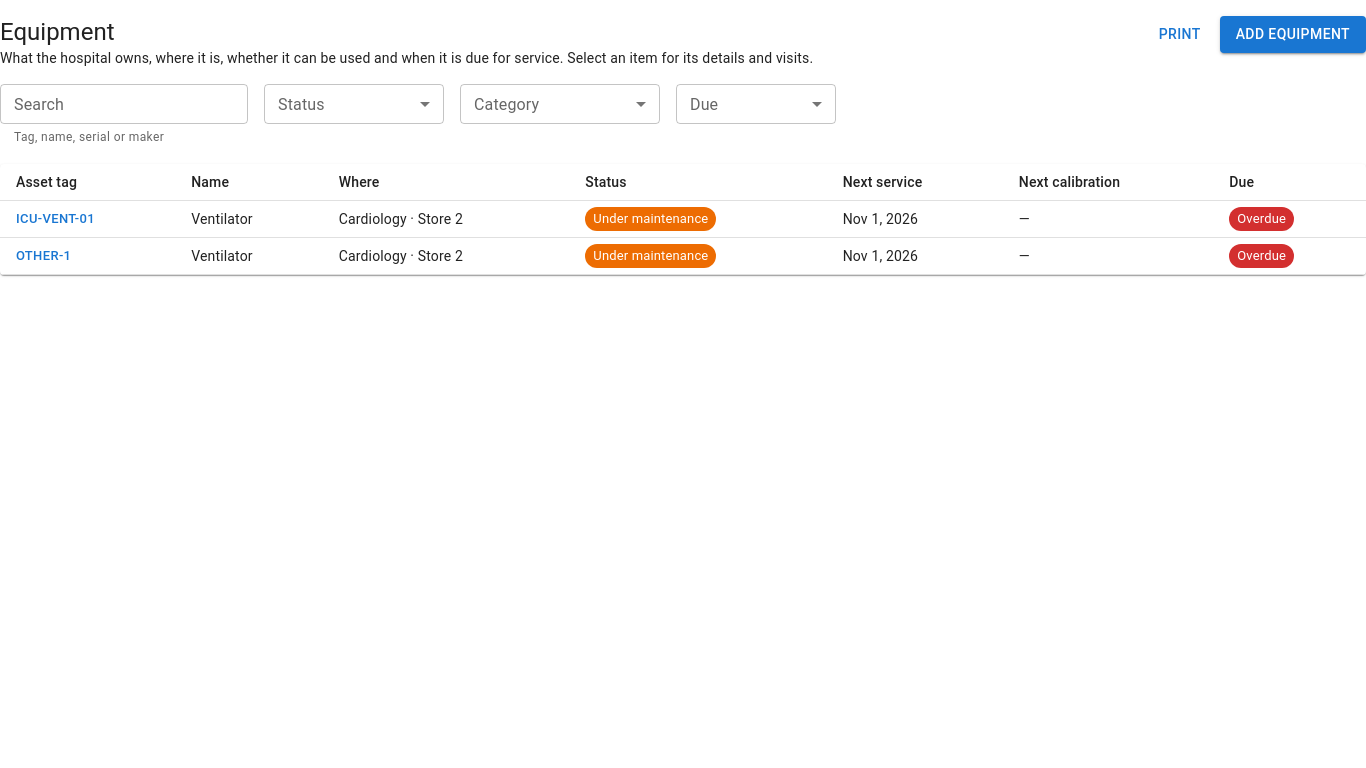
Equipment register (HIMS-FAC-009) › a department grant changes only that department's equipment
Step 1. Click the button "OTHER-1" → (44,256), box [16, 245, 71, 267]
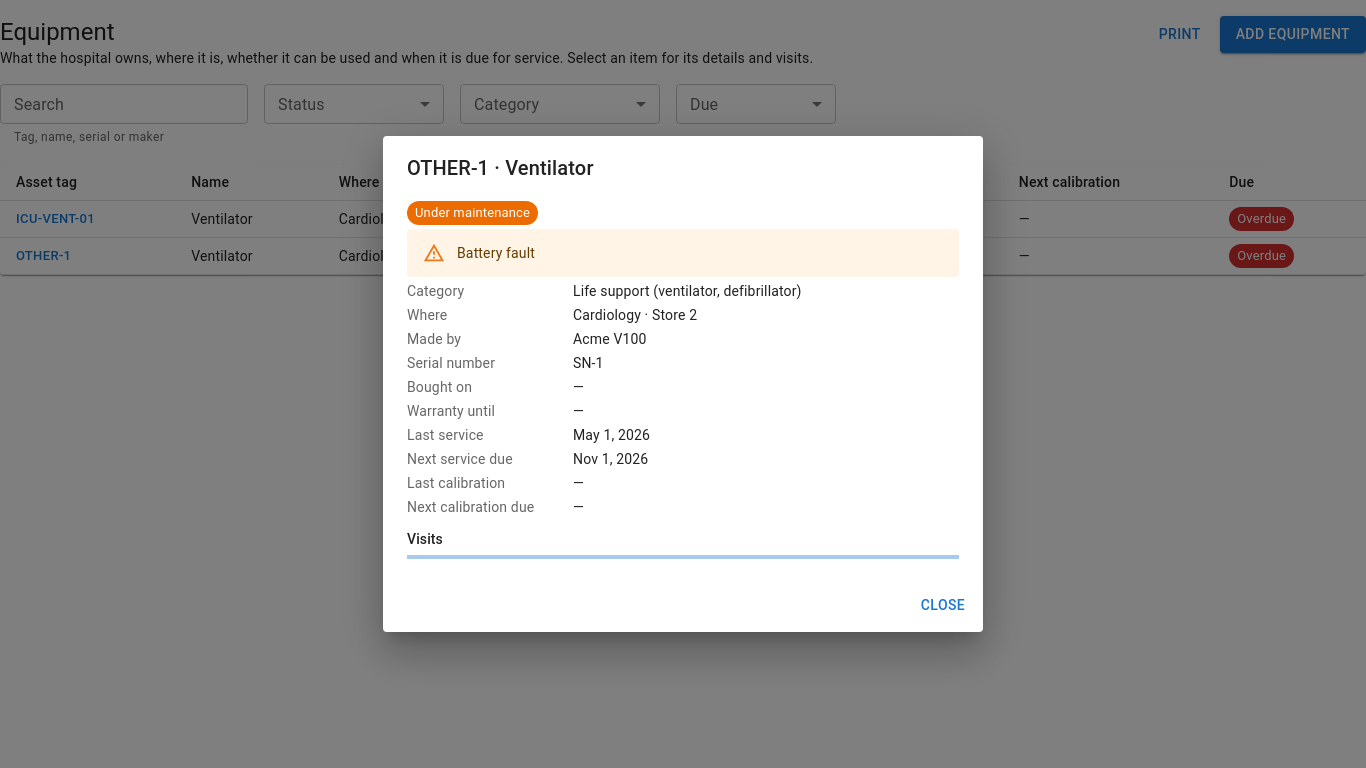
Check: the button "Edit" is not shown
Step 2. Click the button "Close" → (943,605), box [911, 587, 975, 624]
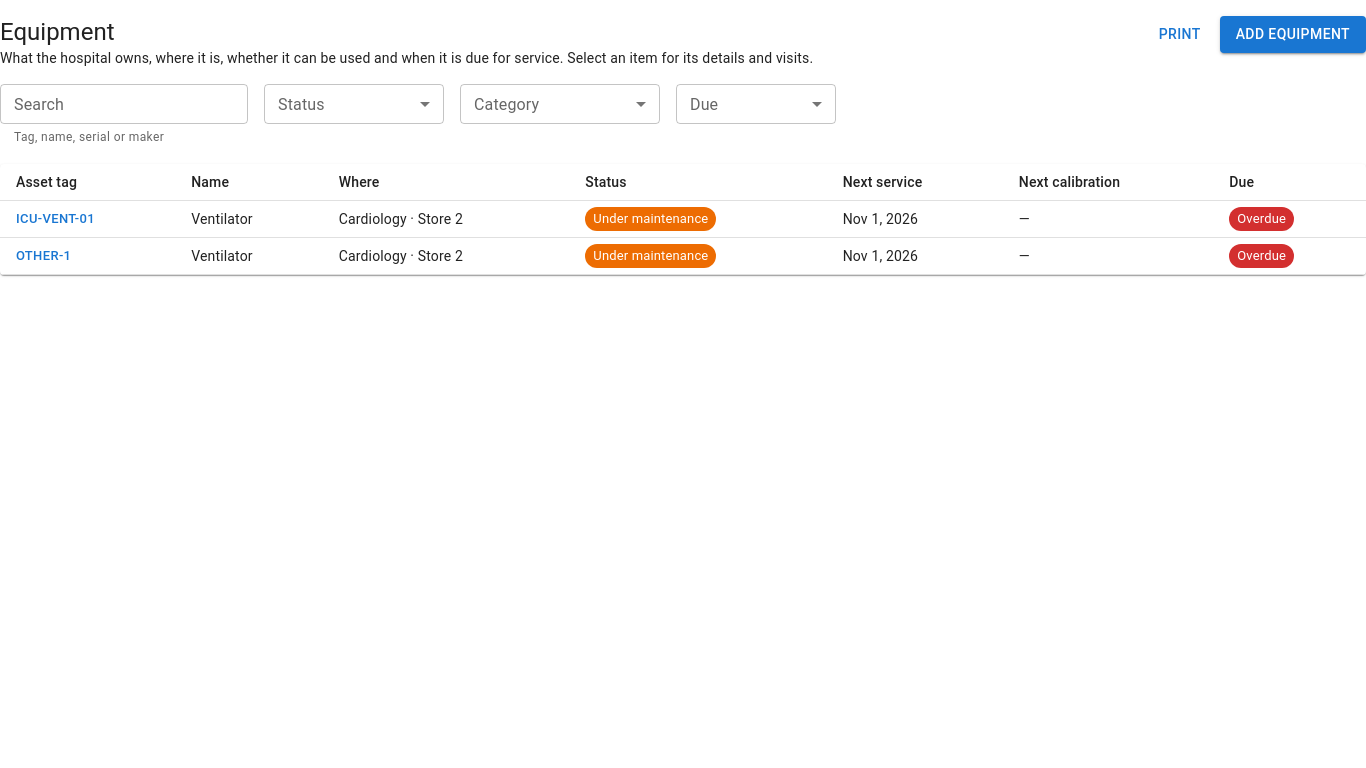
Check: the dialog is gone
Step 3. Click the button "ICU-VENT-01" → (56,219), box [16, 208, 95, 230]
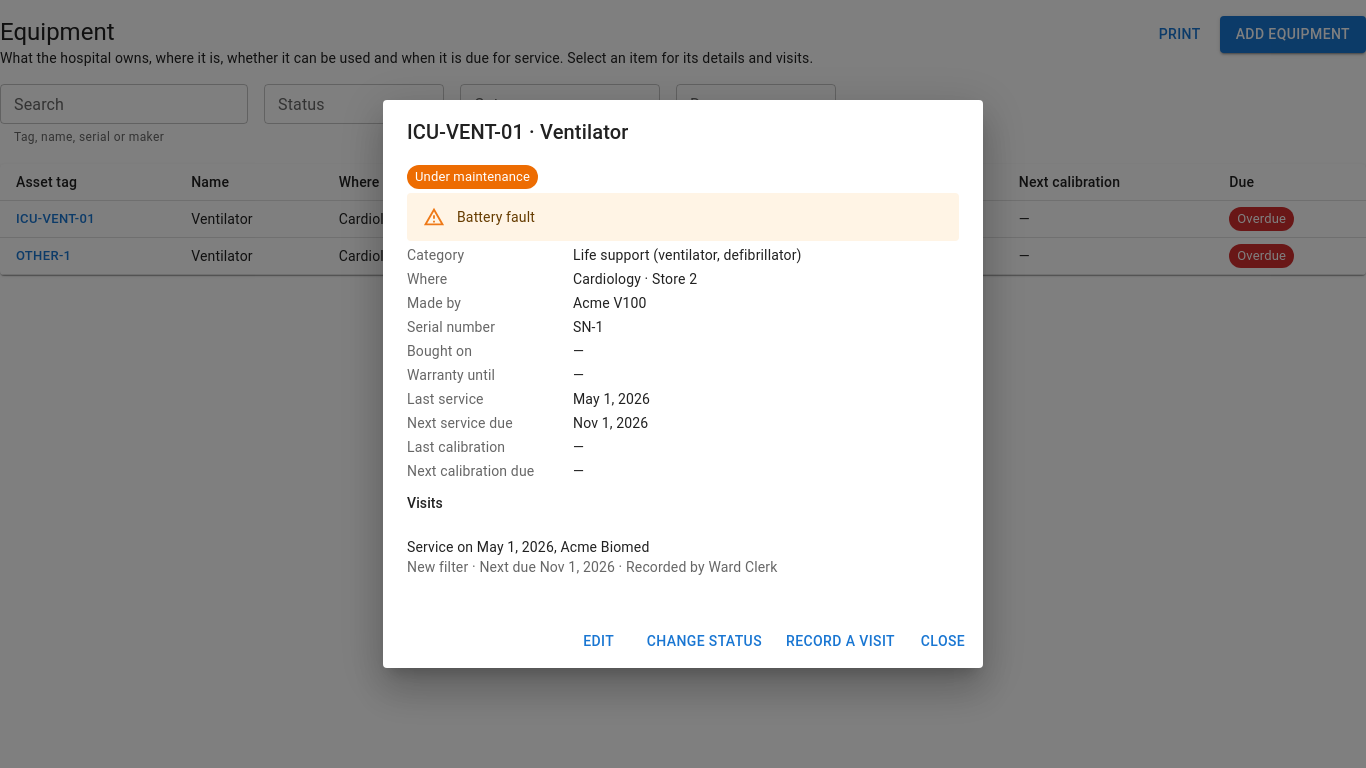
Check: the button "Edit" is shown, box [567, 623, 631, 660]
